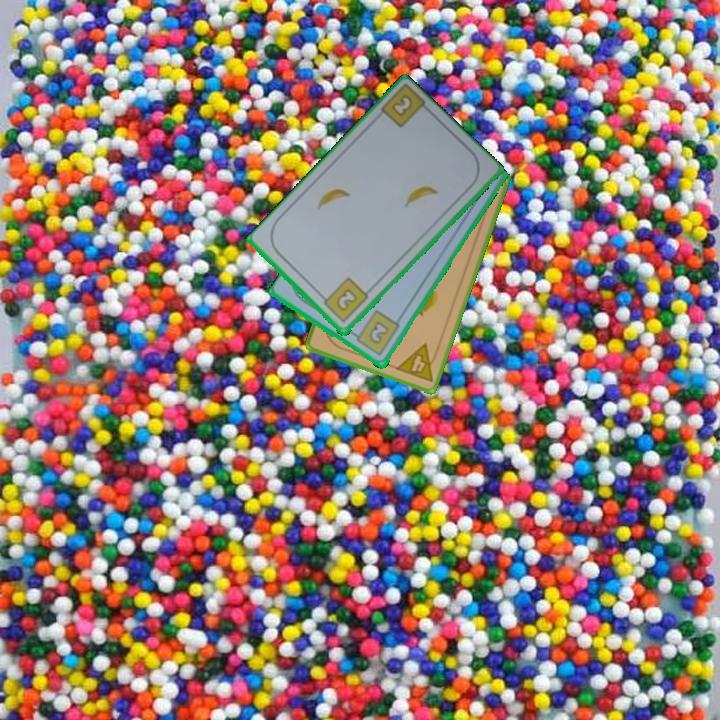2b: (317, 274, 371, 326), (349, 307, 402, 359), (388, 93, 414, 120)
4p: (392, 340, 442, 385)
